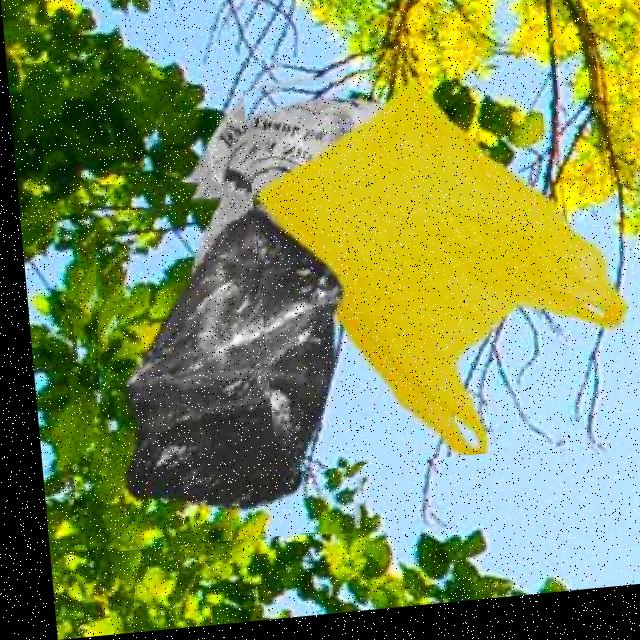litter: (238, 43, 620, 478), (66, 171, 367, 554)
